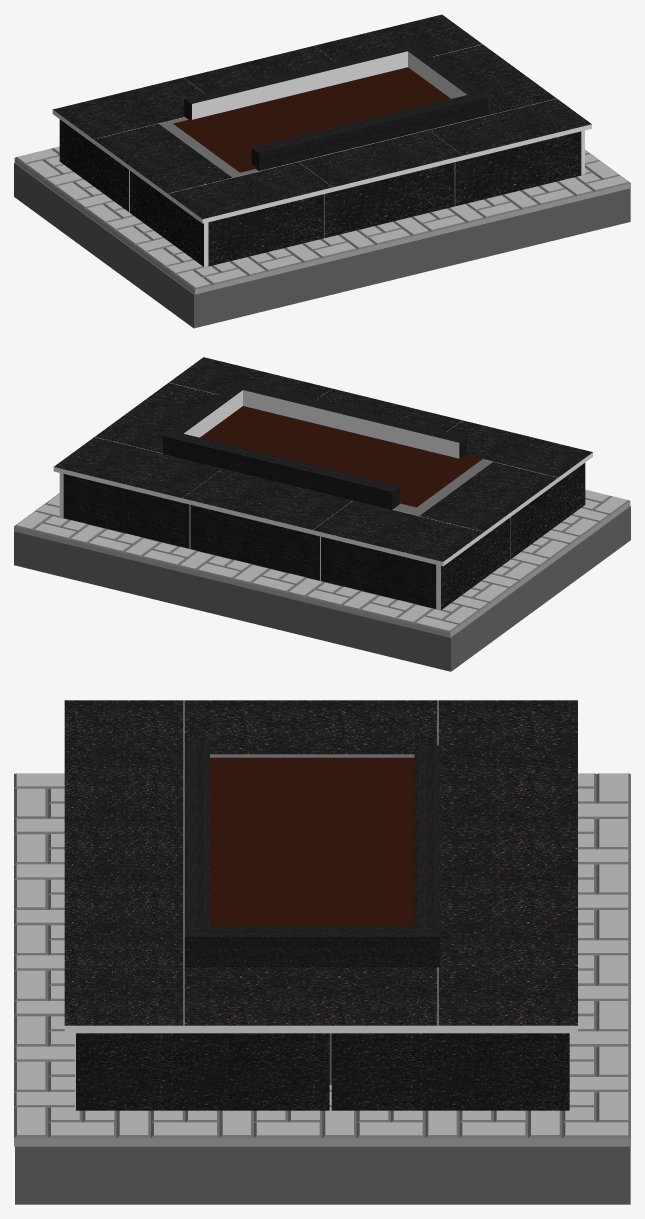
The model's file is 120-180-30 ччерн с брусч [u_1_u].glb.
3 renders of one model, top to bottom at view 1: azimuth 30°, elevation 25°; view 2: azimuth 150°, elevation 25°; view 3: azimuth 270°, elevation 25°, orthographic. The views are drawn at different scales.
Visible parts, largest first — view 1: Куб.201, Плоскость.213, plitka.006, Куб.206, Plane.006, Куб.205, Куб.202, Куб.204, Куб.203, Плоскость.230; view 2: Куб.201, Плоскость.213, plitka.006, Куб.200, Plane.006, Куб.205, Куб.204, Куб.202, Куб.203, Плоскость.230; view 3: Куб.201, plitka.006, Куб.199, Плоскость.213, Plane.006, Куб.203, Куб.204, Куб.202, Плоскость.230.
Part boxes in pixels (<box>): Куб.201: <box>52,14,591,223</box>; Плоскость.213: <box>14,162,630,328</box>; plitka.006: <box>14,146,630,294</box>; Куб.206: <box>208,131,581,266</box>; Plane.006: <box>173,67,450,172</box>; Куб.205: <box>59,119,208,266</box>; Куб.202: <box>251,95,477,170</box>; Куб.204: <box>184,45,407,119</box>; Куб.203: <box>401,42,487,117</box>; Плоскость.230: <box>159,115,486,177</box>; Куб.201: <box>53,357,592,566</box>; Плоскость.213: <box>14,506,630,671</box>; plitka.006: <box>14,489,630,637</box>; Куб.200: <box>63,474,436,608</box>; Plane.006: <box>200,406,483,507</box>; Куб.205: <box>436,463,585,610</box>; Куб.204: <box>173,433,399,509</box>; Куб.202: <box>243,384,466,458</box>; Куб.203: <box>163,381,249,456</box>; Плоскость.230: <box>393,459,492,515</box>; Куб.201: <box>64,700,577,1033</box>; plitka.006: <box>14,773,630,1146</box>; Куб.199: <box>76,1033,569,1110</box>; Плоскость.213: <box>15,1146,630,1204</box>; Plane.006: <box>210,757,414,925</box>; Куб.203: <box>184,926,440,967</box>; Куб.204: <box>414,745,440,927</box>; Куб.202: <box>184,745,209,925</box>; Плоскость.230: <box>210,754,414,1084</box>.
Size of the model in its own units: 2.02 by 0.4915 by 1.44.
8 materials, 2 textured.
